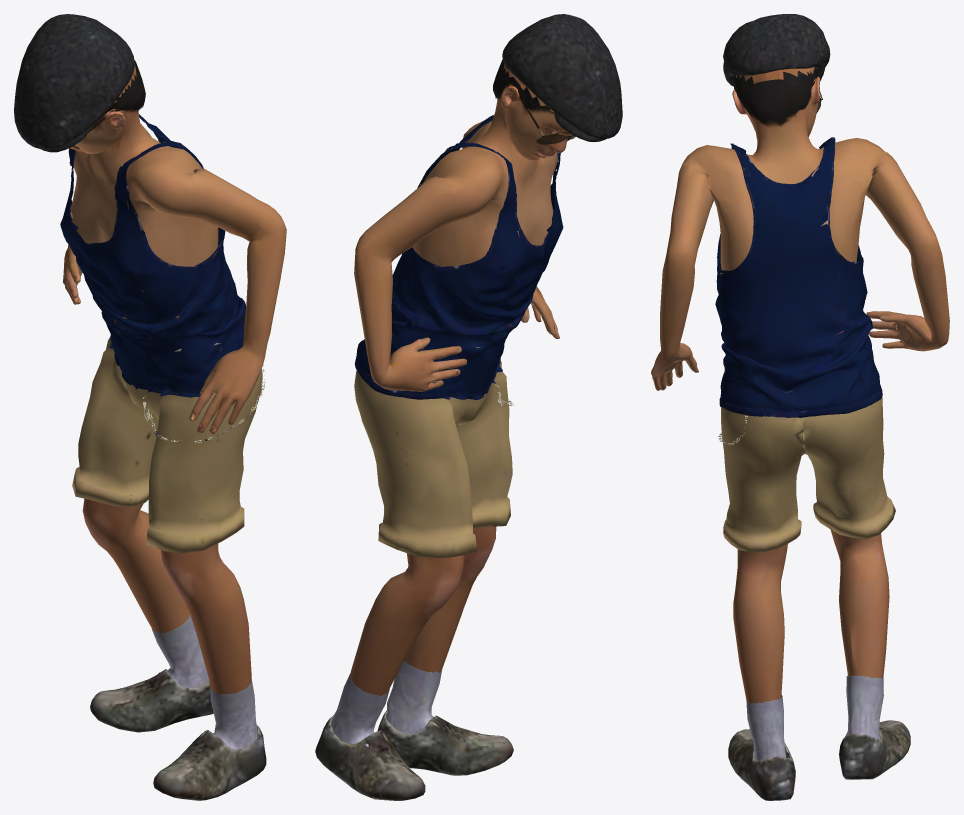
The picture shows the model from 3 angles, left to right: view 1: azimuth 30°, elevation 25°; view 2: azimuth 150°, elevation 25°; view 3: azimuth 270°, elevation 25°; orthographic projection. The views are drawn at different scales.
Visible parts, largest first — view 1: p03483; view 2: p03483; view 3: p03483.
Part boxes in pixels (left/top/right/bottom): p03483: left=14, top=14, right=286, bottom=800; p03483: left=315, top=14, right=622, bottom=800; p03483: left=651, top=14, right=949, bottom=800.
Size of the model in its own units: 0.5359 by 1.61 by 0.6125.
1 material, 1 textured.
